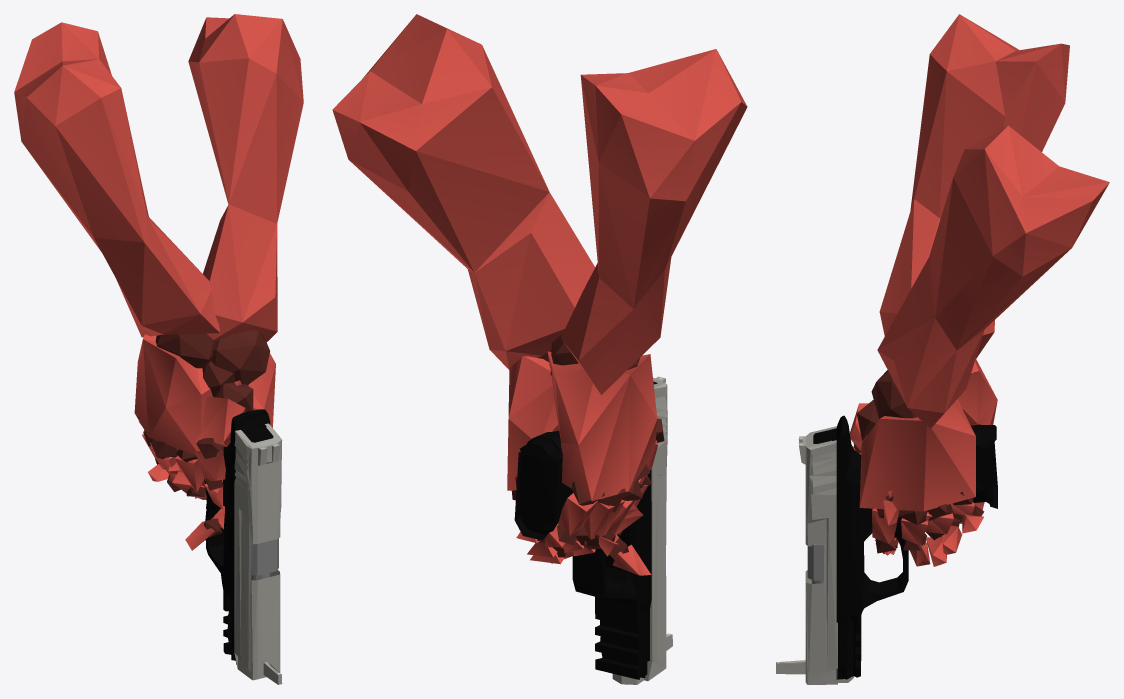
File: M&P9shootLowP_000201.obj
3 views of the same model, side by side, from view 1: azimuth 30°, elevation 25°; view 2: azimuth 150°, elevation 25°; view 3: azimuth 270°, elevation 25° (orthographic). The views are drawn at different scales.
Parts seen in each view (by area): view 1: Beta_Surface.001_Beta_Surface.002, slide_平面.002, Beta_Joints.001_Beta_Joints.002, triger_平面.001; view 2: Beta_Surface.001_Beta_Surface.002, triger_平面.001, slide_平面.002, Beta_Joints.001_Beta_Joints.002; view 3: Beta_Surface.001_Beta_Surface.002, triger_平面.001, slide_平面.002, Beta_Joints.001_Beta_Joints.002.
Part boxes in pixels (left/top/right/bottom): Beta_Surface.001_Beta_Surface.002: left=14, top=14, right=303, bottom=550; slide_平面.002: left=234, top=423, right=282, bottom=684; Beta_Joints.001_Beta_Joints.002: left=138, top=330, right=269, bottom=537; triger_平面.001: left=204, top=409, right=278, bottom=660; Beta_Surface.001_Beta_Surface.002: left=332, top=14, right=747, bottom=575; triger_平面.001: left=519, top=430, right=651, bottom=679; slide_平面.002: left=612, top=376, right=672, bottom=684; Beta_Joints.001_Beta_Joints.002: left=511, top=333, right=664, bottom=563; Beta_Surface.001_Beta_Surface.002: left=849, top=14, right=1109, bottom=566; triger_平面.001: left=807, top=415, right=996, bottom=679; slide_平面.002: left=776, top=426, right=853, bottom=684; Beta_Joints.001_Beta_Joints.002: left=853, top=370, right=984, bottom=553.
Size of the model in its own units: 42.47 by 80.1 by 40.35.
